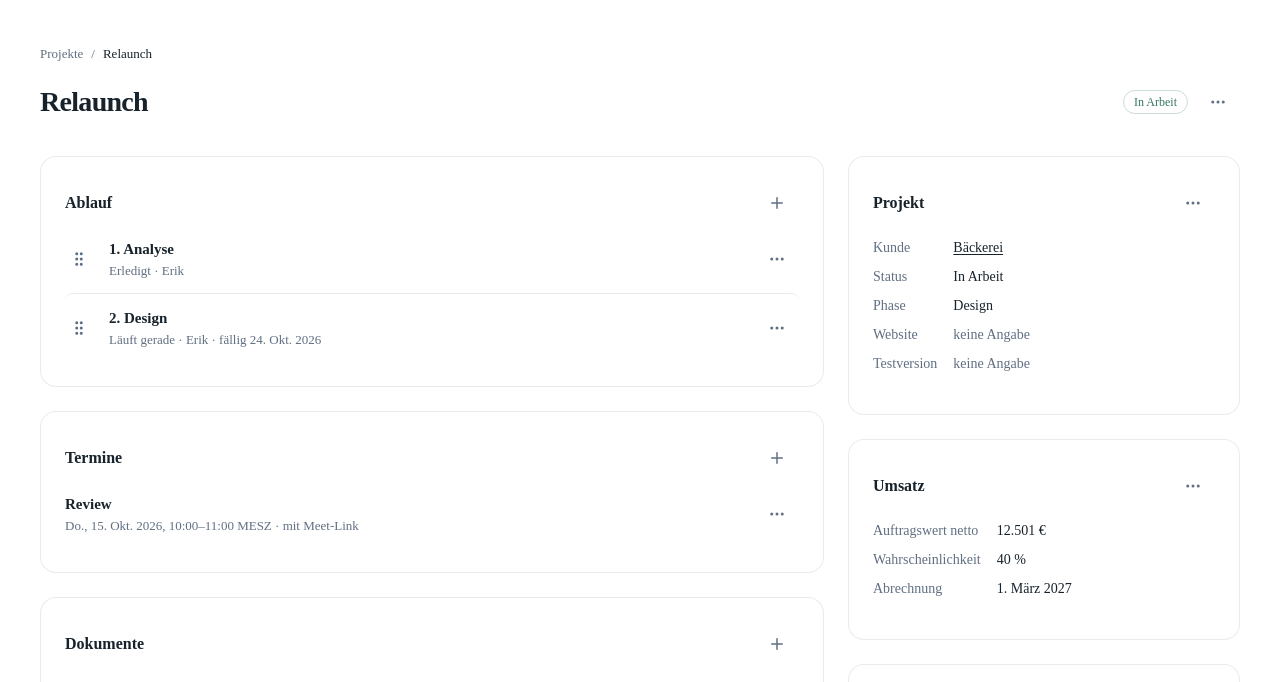
Test: Verwaltung › admin-dashboard.md AK-7: Umsatz am Projekt mit deutschem Betrag
The image size is (1280, 682).
Check: the element "Umsatz" shows "40 %", box [997,552,1026,567]
Check: the element "Umsatz" shows "1. März 2027", box [997,581,1072,596]
Click the button named "Aktionen: Umsatz": (1193, 486) [1171,464,1215,508]
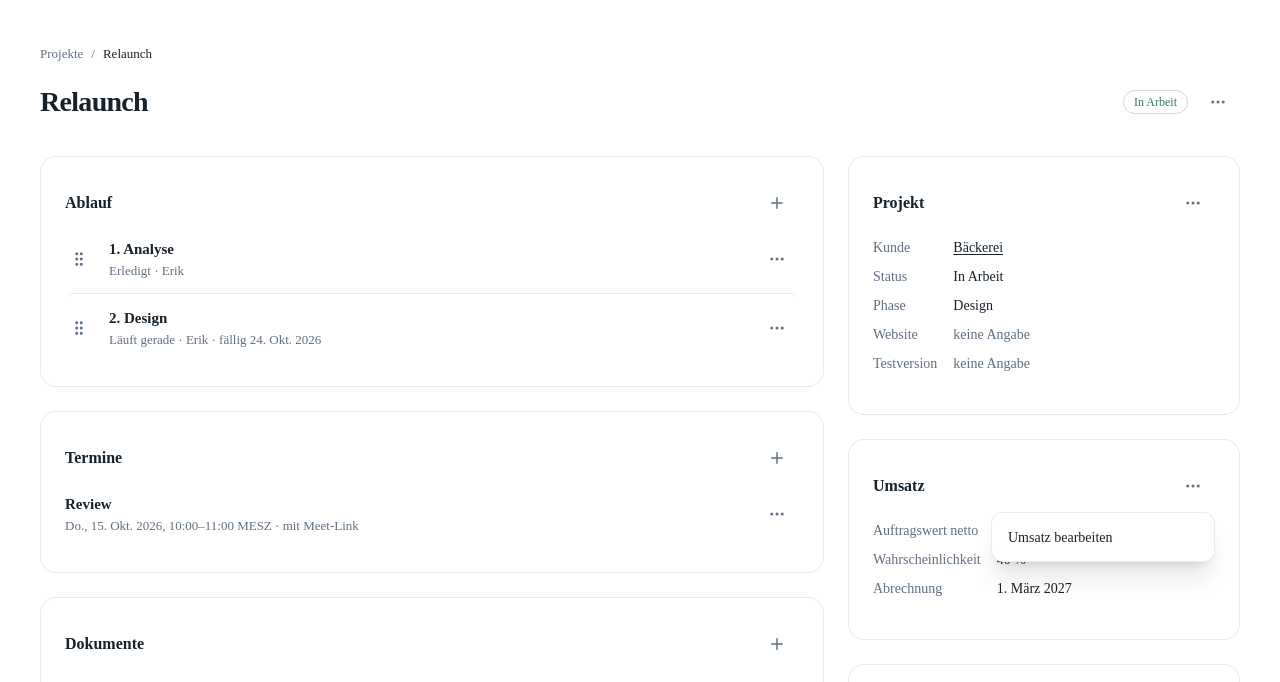
Click the menu item "Umsatz bearbeiten": (1103, 537) [996,517,1210,557]
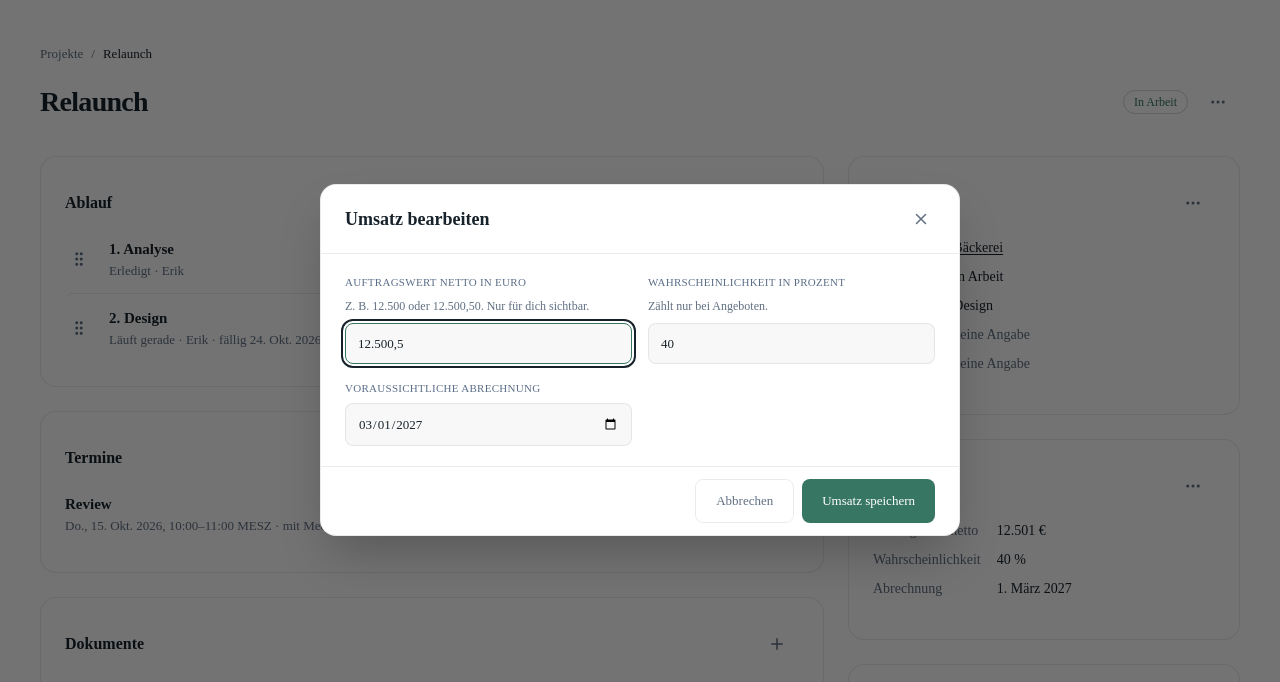
Check: the field labelled "Auftragswert netto in Euro" holds "12.500,5", box [345,322,632,364]
Check: the number field labelled "Wahrscheinlichkeit in Prozent" holds "40", box [648,322,935,364]
Check: the date field labelled "Voraussichtliche Abrechnung" holds "2027-03-01", box [345,402,632,446]
